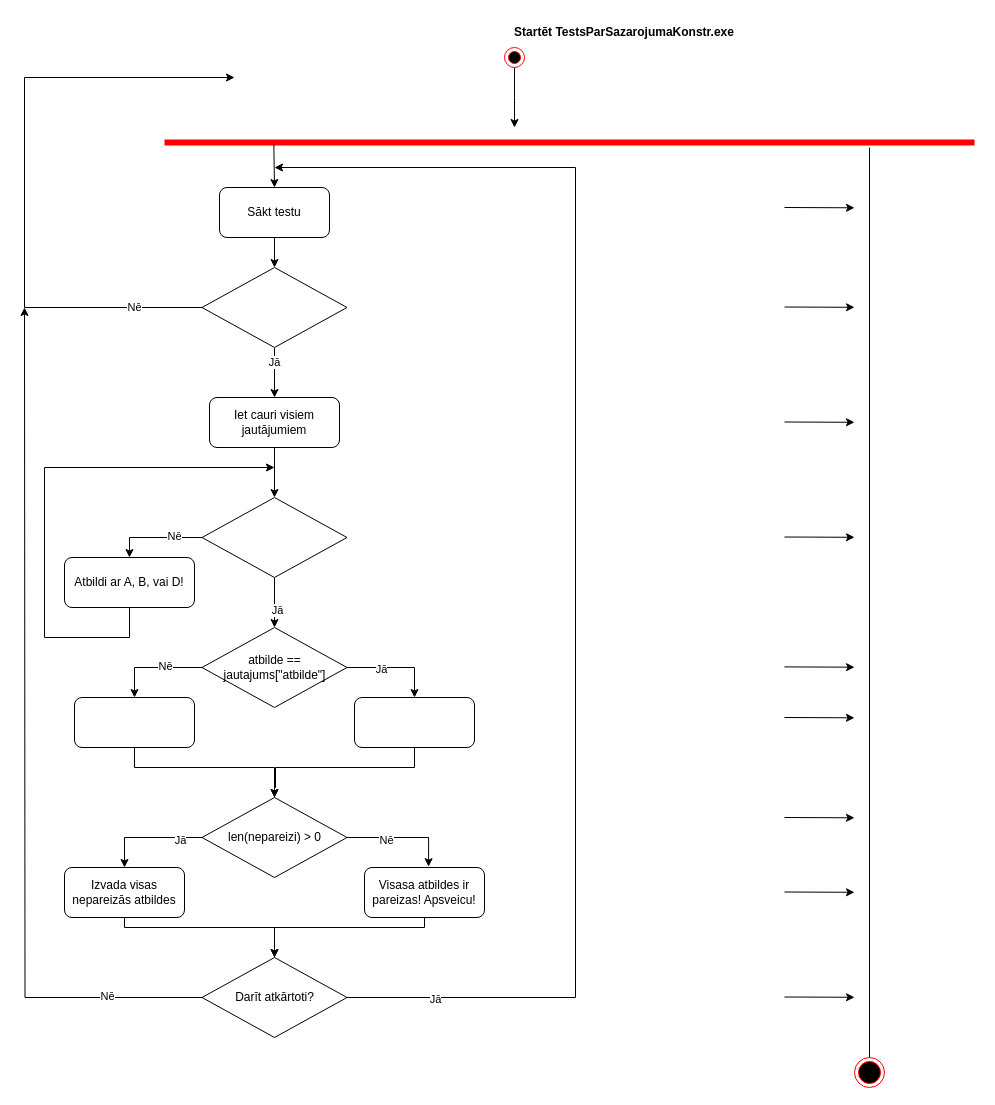
Some shapes in this 995 by 1105 pixel diagram are drawn without their labels. Each missing label, with the centre of its shape:
atbilde in ["a", "b", "c", "d"]: point (274, 537)
gatavs == 'jā': point (274, 307)
nepareizi.append(jautajums): point (134, 722)
pareizi += 1: point (414, 722)
